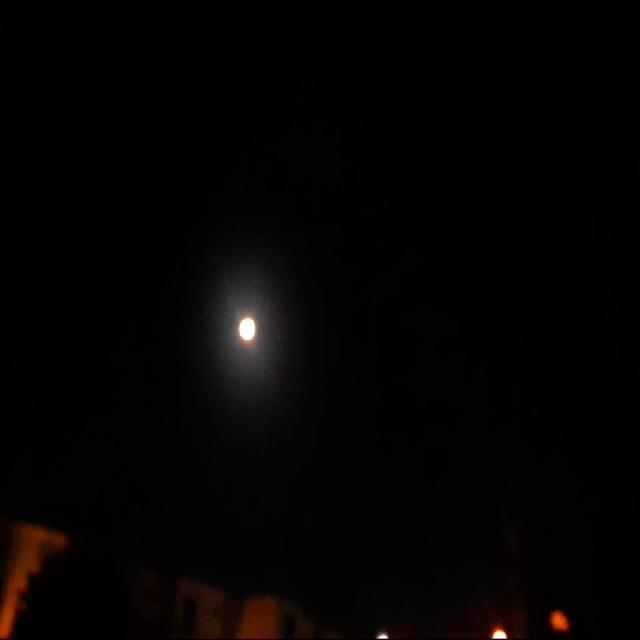moon: (226, 304, 248, 344)
